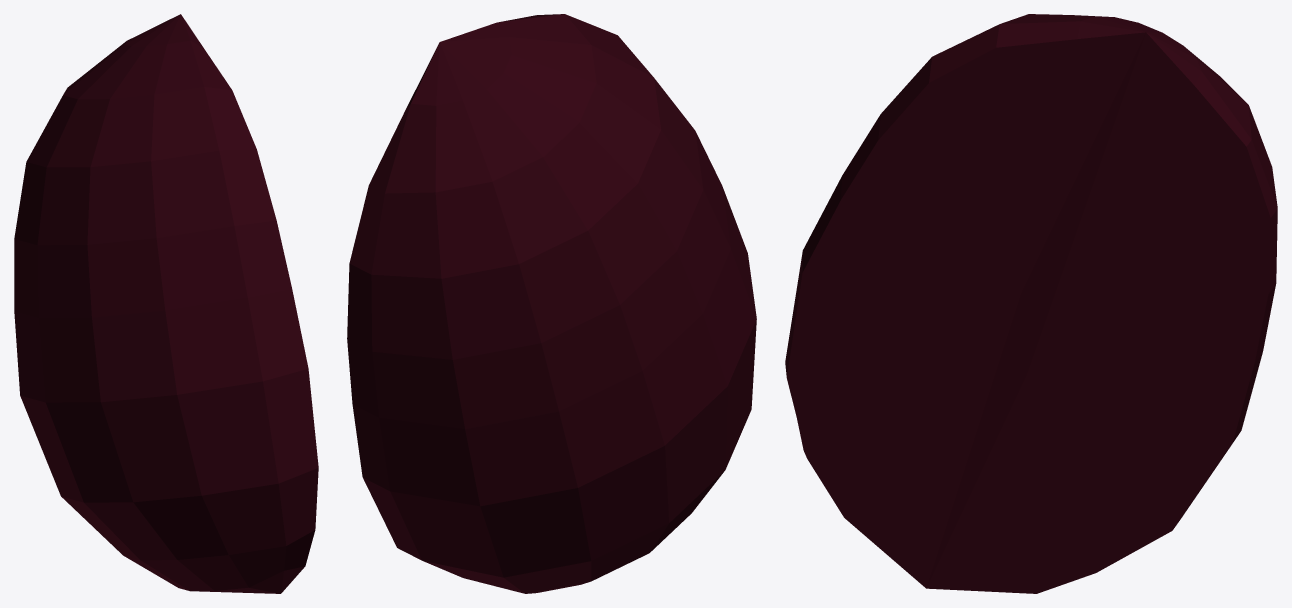
Rendered from bean.fbx.
3 views of the same model, side by side, from view 1: azimuth 30°, elevation 25°; view 2: azimuth 150°, elevation 25°; view 3: azimuth 270°, elevation 25° (orthographic). The views are drawn at different scales.
Parts seen in each view (by area): view 1: Sphere; view 2: Sphere; view 3: Sphere.
Boxes of the visible parts, <box> form: Sphere: <box>14,14,318,593</box>; Sphere: <box>347,14,756,593</box>; Sphere: <box>785,14,1277,593</box>.
Bounding box in the file's own units: 100 × 221 × 175.
